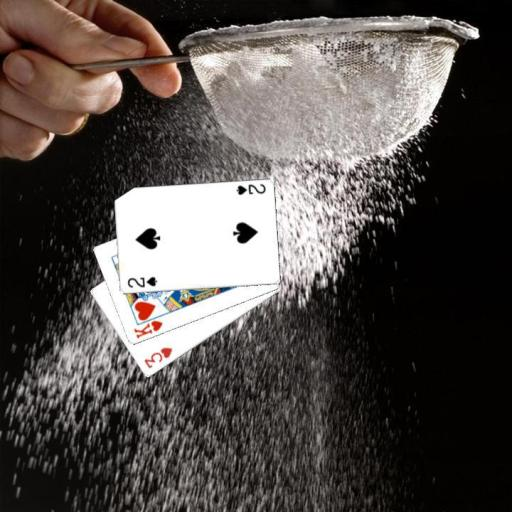2S: (124, 274, 159, 289), (233, 181, 267, 196)
3H: (141, 344, 173, 370)
KH: (130, 317, 164, 341)
